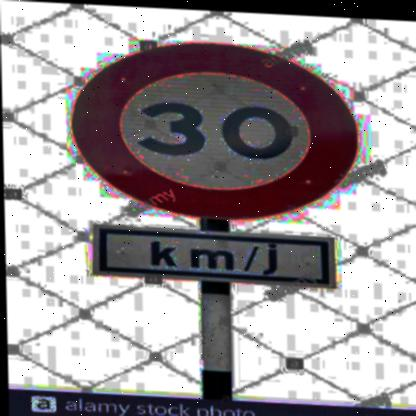Speed Limit -30-: (64, 32, 369, 228)
